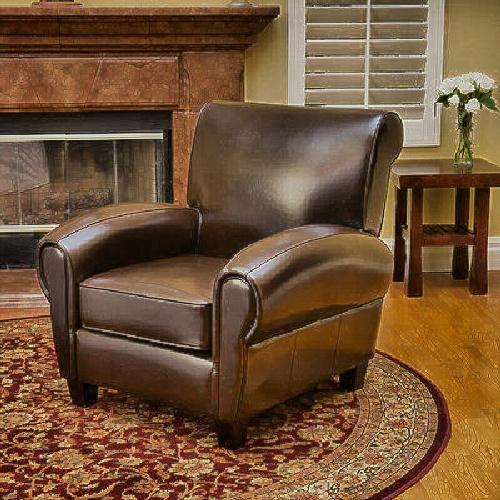sofa: (73, 100, 397, 428)
